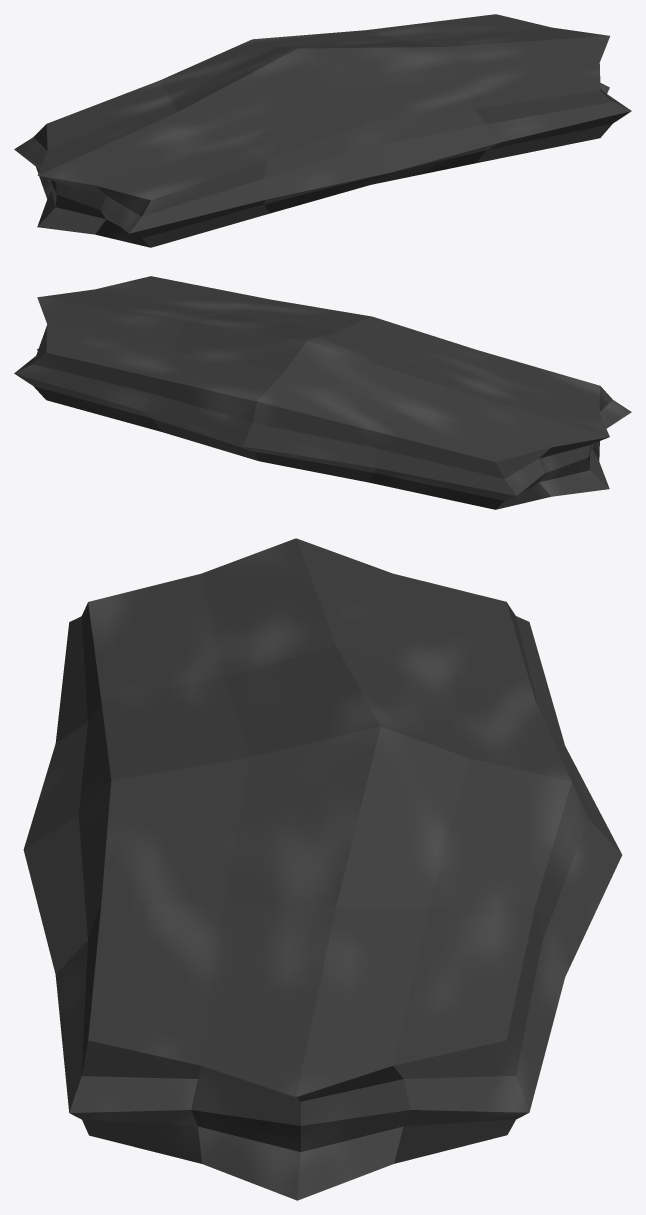
Rendered from Obstaculo_pedra.fbx.
3 renders of one model, top to bottom at view 1: azimuth 30°, elevation 25°; view 2: azimuth 150°, elevation 25°; view 3: azimuth 270°, elevation 25°, orthographic. The views are drawn at different scales.
Parts seen in each view (by area): view 1: Pedra; view 2: Pedra; view 3: Pedra.
Part boxes in pixels (box(x1,y1,x2,y2)): Pedra: box(14, 14, 631, 247); Pedra: box(14, 276, 631, 509); Pedra: box(23, 538, 622, 1200).
Size of the model in its own units: 346 by 54.7 by 156.
